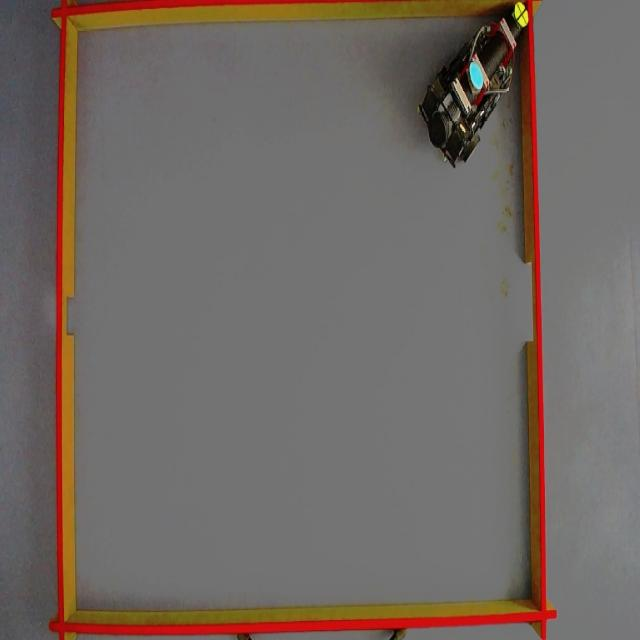robot: (412, 9, 529, 172)
robot-front: (514, 0, 529, 28)
robot-rear: (468, 62, 486, 88)
